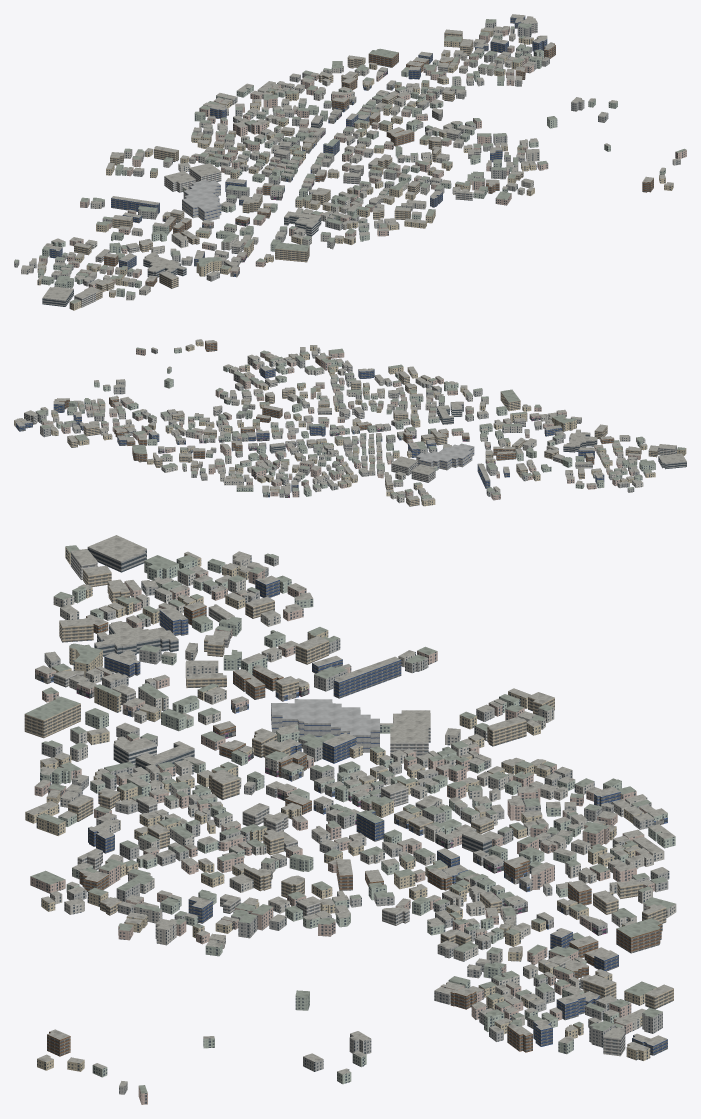
File: ArahaTown_Block_E01024_S04096.gltf
3 renders of one model, top to bottom at view 1: azimuth 30°, elevation 25°; view 2: azimuth 150°, elevation 25°; view 3: azimuth 270°, elevation 25°, orthographic. The views are drawn at different scales.
Visible parts, largest first — view 1: ArahaTown_Block_E01024_S04096; view 2: ArahaTown_Block_E01024_S04096; view 3: ArahaTown_Block_E01024_S04096.
Part boxes in pixels (x1=…): ArahaTown_Block_E01024_S04096: x1=14, y1=14, x2=686, y2=310; ArahaTown_Block_E01024_S04096: x1=14, y1=339, x2=686, y2=506; ArahaTown_Block_E01024_S04096: x1=24, y1=535, x2=676, y2=1104.
Bounding box in the file's own units: 1057 × 58.48 × 549.
Materials: 17 (17 with a texture image).
